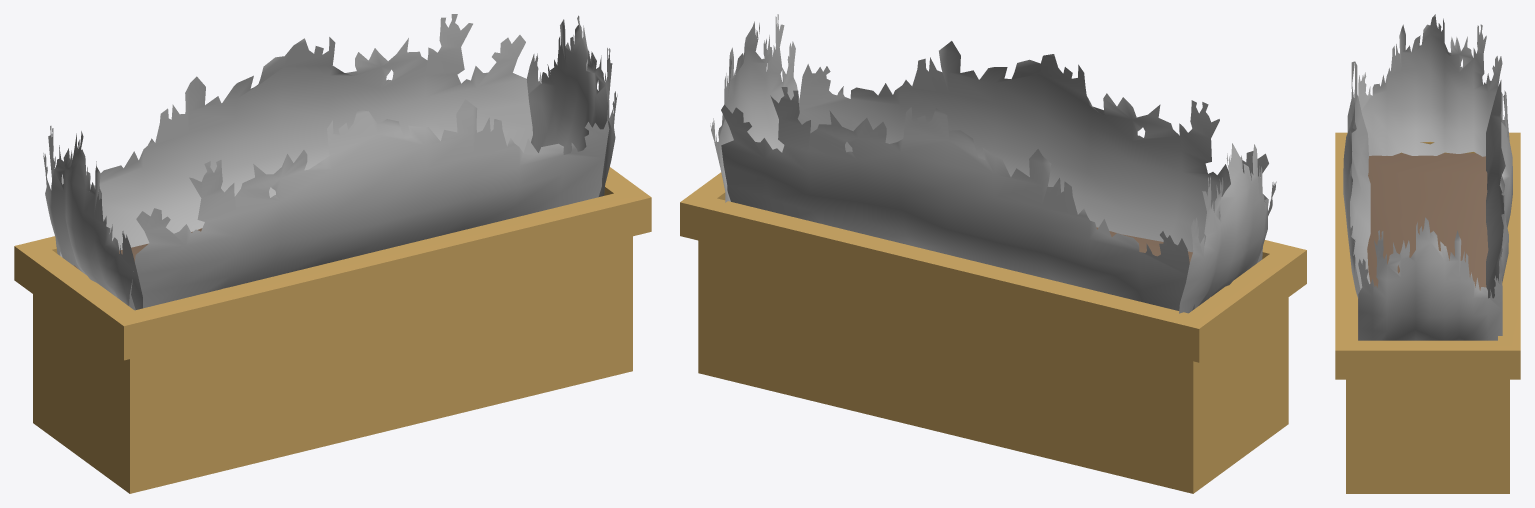
File: PlantWall.fbx
The picture shows the model from 3 angles, left to right: view 1: azimuth 30°, elevation 25°; view 2: azimuth 150°, elevation 25°; view 3: azimuth 270°, elevation 25°; orthographic projection. The views are drawn at different scales.
Parts seen in each view (by area): view 1: pPlane29; view 2: pPlane29; view 3: pPlane29.
Boxes of the visible parts, x1=… form: pPlane29: x1=14, y1=14, x2=651, y2=493; pPlane29: x1=680, y1=14, x2=1306, y2=493; pPlane29: x1=1335, y1=14, x2=1520, y2=493.
Size of the model in its own units: 3.15 by 1.84 by 1.13.
